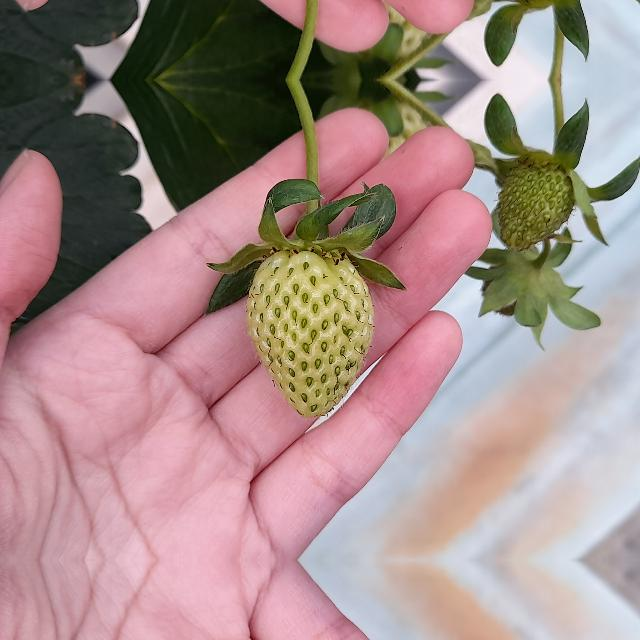Health_25: (246, 250, 374, 418), (494, 152, 578, 254)
